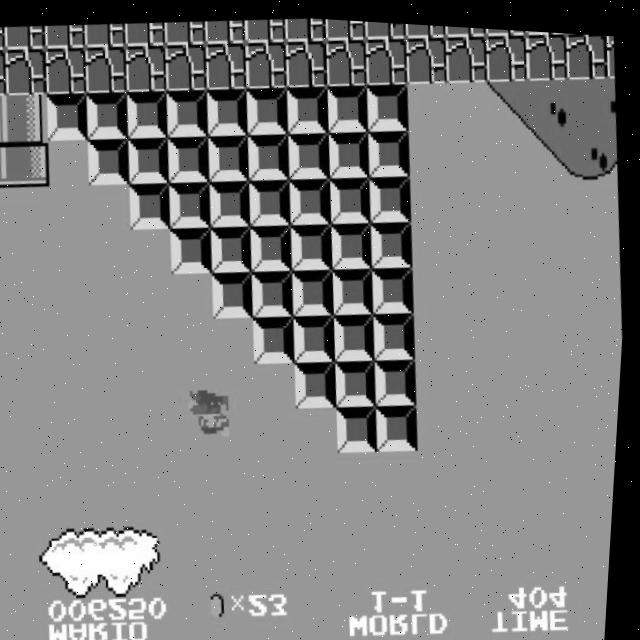11- little_mario: (187, 384, 237, 439)
14- pipe: (4, 92, 52, 143), (0, 95, 11, 145)
15- pipe_head: (6, 137, 54, 188), (0, 140, 12, 189)
17- undestructible_block: (523, 24, 570, 76), (3, 46, 50, 97), (43, 44, 90, 95), (83, 43, 130, 94), (123, 41, 170, 92), (163, 39, 210, 90), (203, 38, 250, 89), (243, 36, 290, 87), (283, 34, 330, 85), (323, 33, 370, 84), (363, 31, 410, 82), (403, 29, 450, 80), (443, 28, 490, 79), (483, 26, 530, 77), (563, 26, 610, 73), (3, 23, 47, 51), (43, 22, 87, 50), (83, 20, 127, 48), (123, 18, 167, 46), (163, 17, 207, 45), (203, 15, 247, 43), (243, 13, 287, 41), (283, 13, 327, 39), (323, 15, 367, 38), (363, 17, 407, 36), (402, 19, 446, 35), (604, 28, 617, 71), (443, 21, 486, 33), (0, 49, 9, 99), (483, 22, 526, 31), (0, 27, 6, 52)
9- hard_block: (126, 132, 174, 183), (124, 87, 172, 138), (170, 222, 218, 273), (210, 220, 258, 271), (246, 127, 294, 178), (244, 82, 292, 133), (290, 218, 338, 269), (330, 216, 378, 267), (366, 122, 414, 173), (364, 77, 412, 128), (168, 177, 216, 227), (212, 267, 260, 317), (288, 172, 336, 222), (332, 262, 380, 312), (45, 90, 92, 141), (87, 134, 134, 185), (85, 88, 132, 139), (167, 131, 214, 182), (165, 85, 212, 136), (207, 129, 254, 180), (205, 84, 252, 135), (254, 311, 301, 362), (250, 219, 297, 270), (296, 354, 343, 405), (294, 309, 341, 360), (287, 126, 334, 177), (285, 81, 332, 132), (336, 353, 383, 404), (334, 307, 381, 358), (327, 124, 374, 175), (325, 79, 372, 130), (376, 351, 423, 402), (374, 306, 421, 357), (372, 260, 419, 311), (370, 214, 417, 265), (128, 179, 175, 229), (209, 176, 256, 226), (252, 265, 299, 315), (248, 174, 295, 224), (292, 264, 339, 314), (338, 399, 385, 449), (329, 171, 376, 221), (378, 398, 425, 448), (368, 169, 415, 219)
